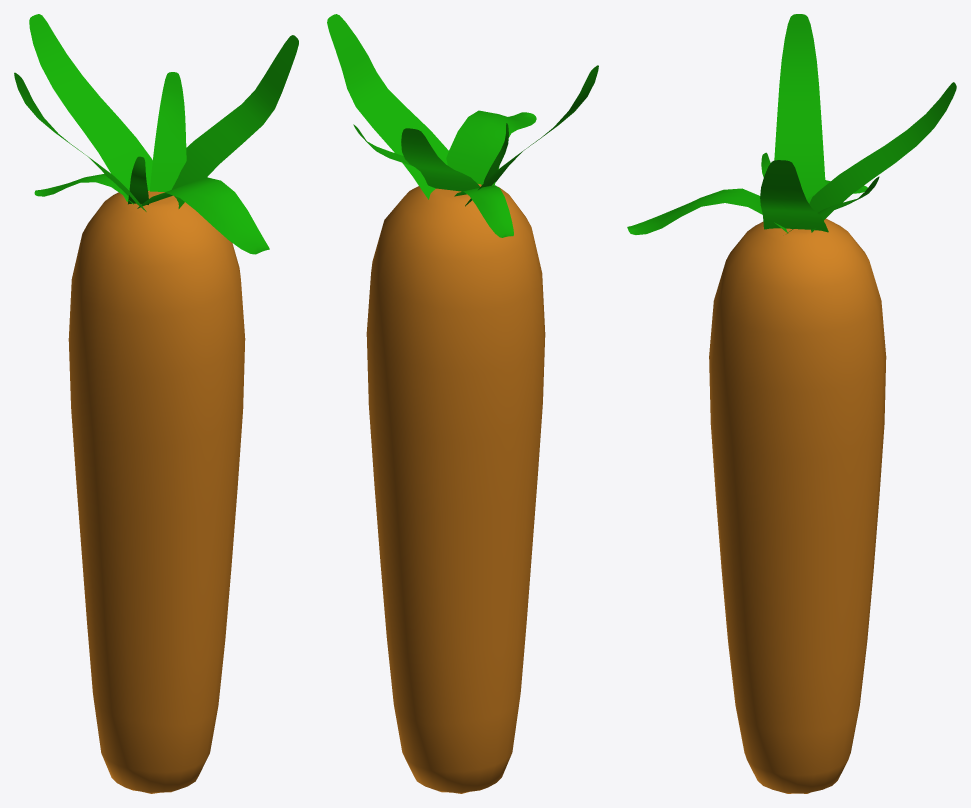
File: Carrot.fbx
The picture shows the model from 3 angles, left to right: view 1: azimuth 30°, elevation 25°; view 2: azimuth 150°, elevation 25°; view 3: azimuth 270°, elevation 25°; orthographic projection. The views are drawn at different scales.
Visible parts, largest first — view 1: Cylinder, Plane.003, Plane.001, Plane.002, Plane.004, Plane, Plane.005, Plane.006; view 2: Cylinder, Plane.001, Plane.002, Plane.003, Plane.006, Plane; view 3: Cylinder, Plane, Plane.003, Plane.001, Plane.002.
Boxes of the visible parts, box(x1,y1,x2,y2) form: Cylinder: box(68, 190, 245, 793); Plane.003: box(29, 14, 152, 201); Plane.001: box(171, 35, 298, 208); Plane.002: box(137, 177, 269, 254); Plane.004: box(150, 72, 186, 191); Plane: box(14, 72, 146, 211); Plane.005: box(128, 156, 148, 204); Plane.006: box(34, 174, 133, 204); Cylinder: box(366, 184, 545, 793); Plane.001: box(327, 14, 448, 199); Plane.002: box(446, 110, 536, 185); Plane.003: box(401, 128, 479, 191); Plane.006: box(454, 185, 513, 237); Plane: box(465, 65, 598, 206); Cylinder: box(709, 218, 886, 793); Plane: box(774, 14, 825, 199); Plane.003: box(809, 82, 956, 232); Plane.001: box(760, 160, 828, 232); Plane.002: box(627, 188, 788, 234).
Size of the model in its own units: 288 by 757 by 320.
